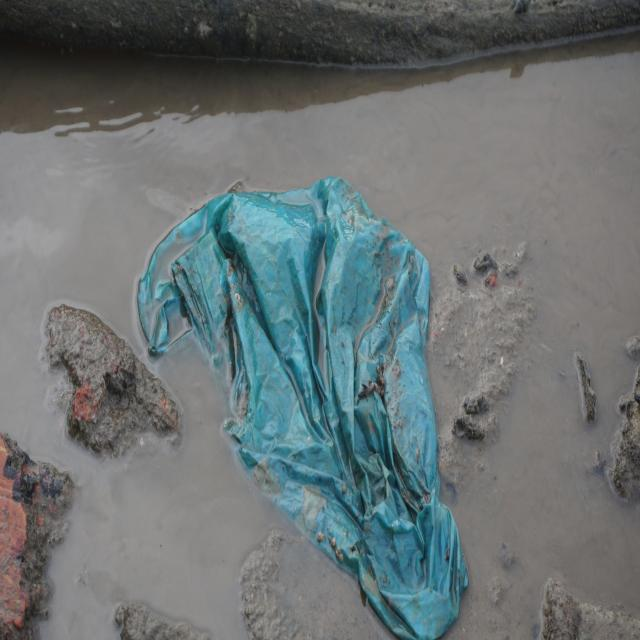Kantong Plastik: (138, 172, 470, 640)
